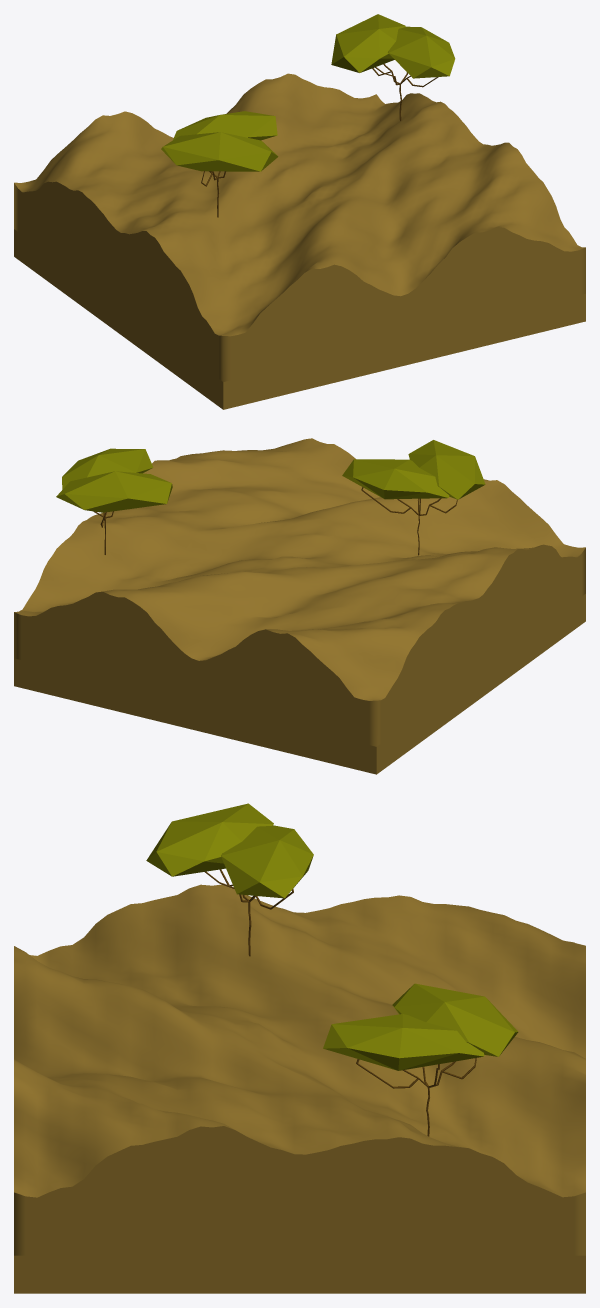
Rendered from savane.glb.
3 views of the same model, one above another, from view 1: azimuth 30°, elevation 25°; view 2: azimuth 150°, elevation 25°; view 3: azimuth 270°, elevation 25° (orthographic). The views are drawn at different scales.
Parts seen in each view (by area): view 1: sol, tree.001, tree; view 2: sol, tree, tree.001; view 3: sol, tree.001, tree.
Part boxes in pixels (<box>): sol: <box>14,73,585,409</box>; tree.001: <box>331,14,455,120</box>; tree: <box>161,111,278,217</box>; sol: <box>14,438,585,774</box>; tree: <box>342,440,485,555</box>; tree.001: <box>56,448,172,554</box>; sol: <box>14,884,585,1293</box>; tree.001: <box>323,983,518,1136</box>; tree: <box>146,803,313,956</box>.
Size of the model in its own units: 20.24 by 10.75 by 20.
